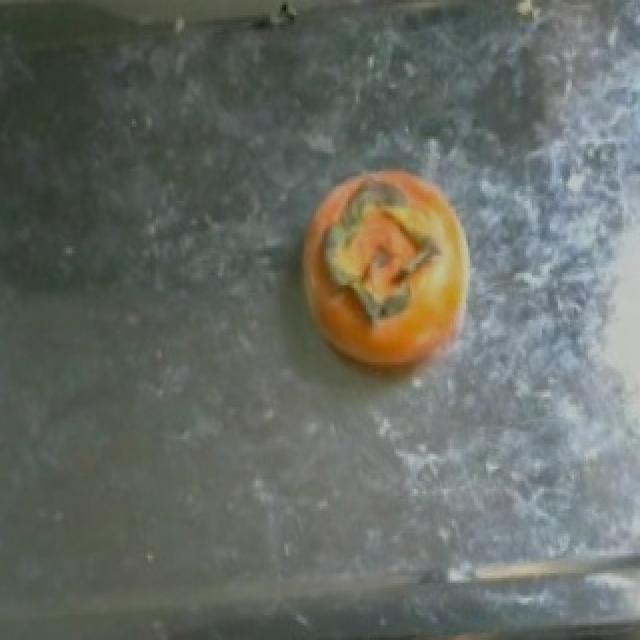Fruit: (274, 149, 494, 399)
